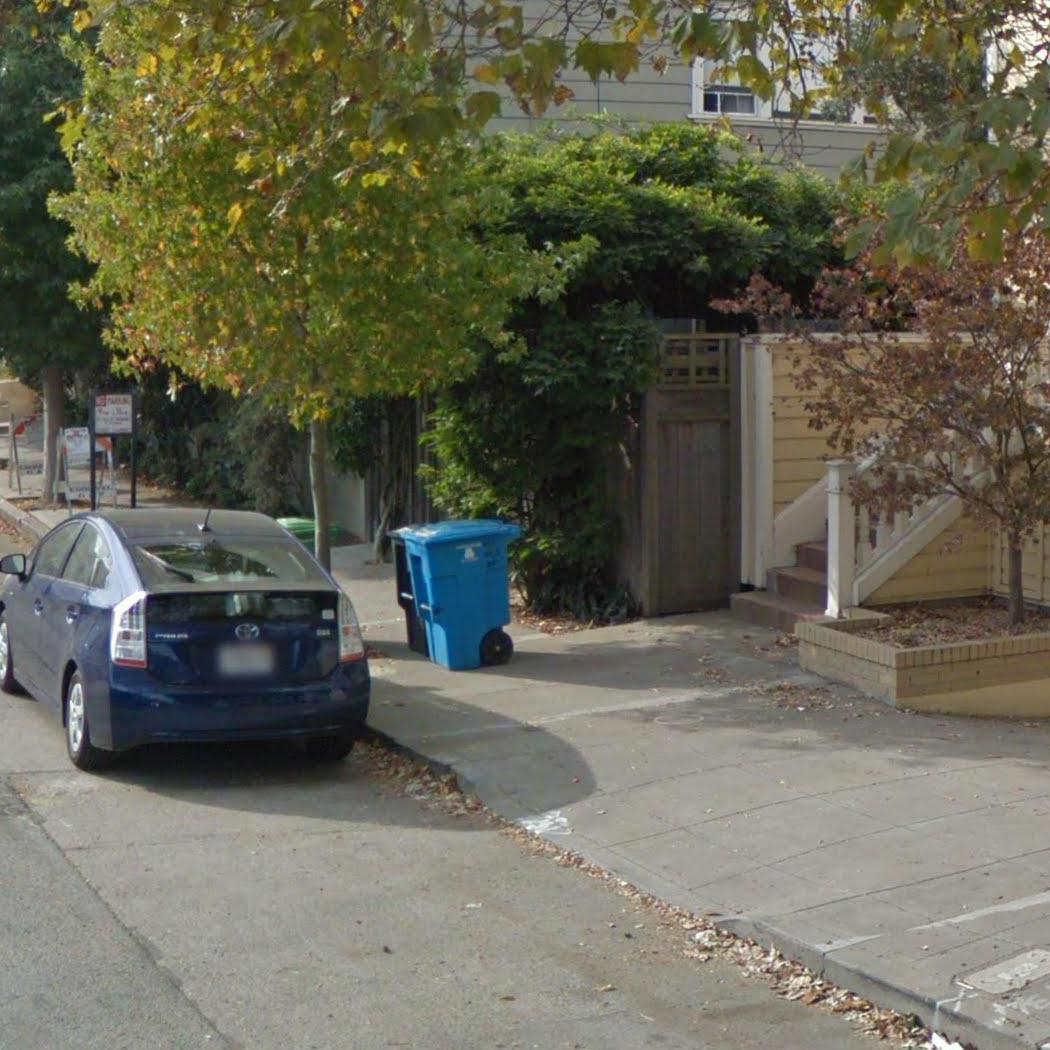No Parking: (92, 392, 135, 436)
